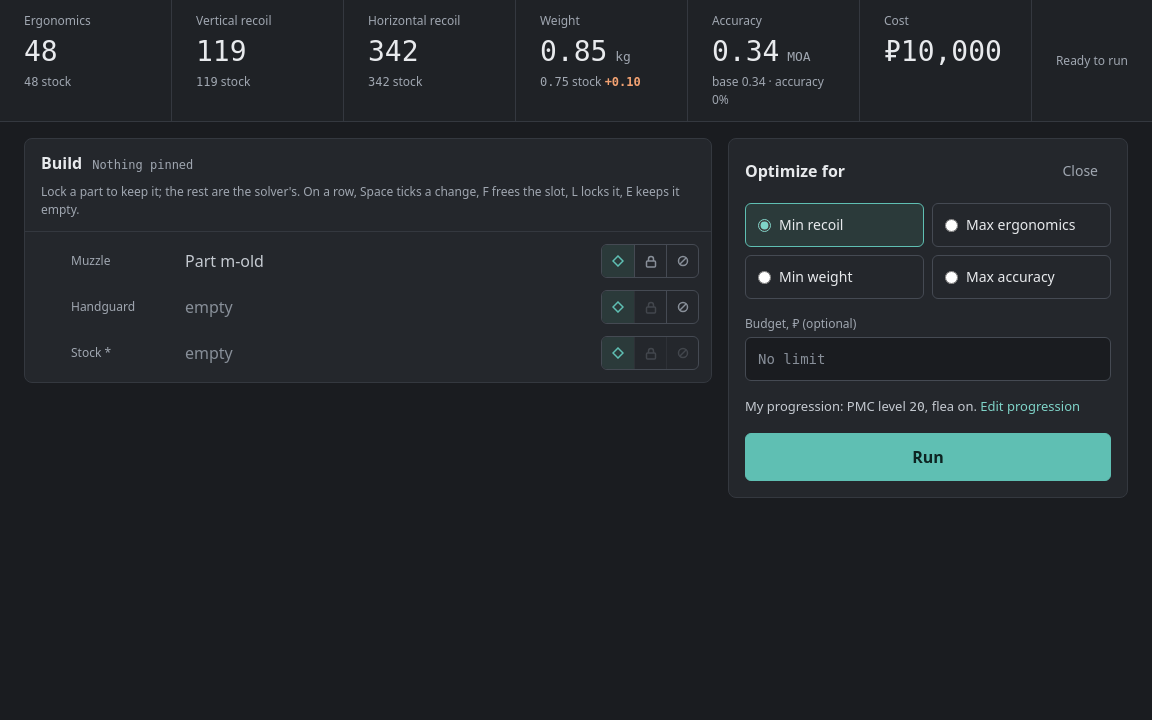
OptimizeWorkbench › pins › sends the pins, and shows which the result kept
This screenshot has width=1152, height=720.
Expected: the element "Pins" is not shown
Click the button named "Lock" in the row of "Part m-old". click: (650, 261)
box: [634,245,666,277]
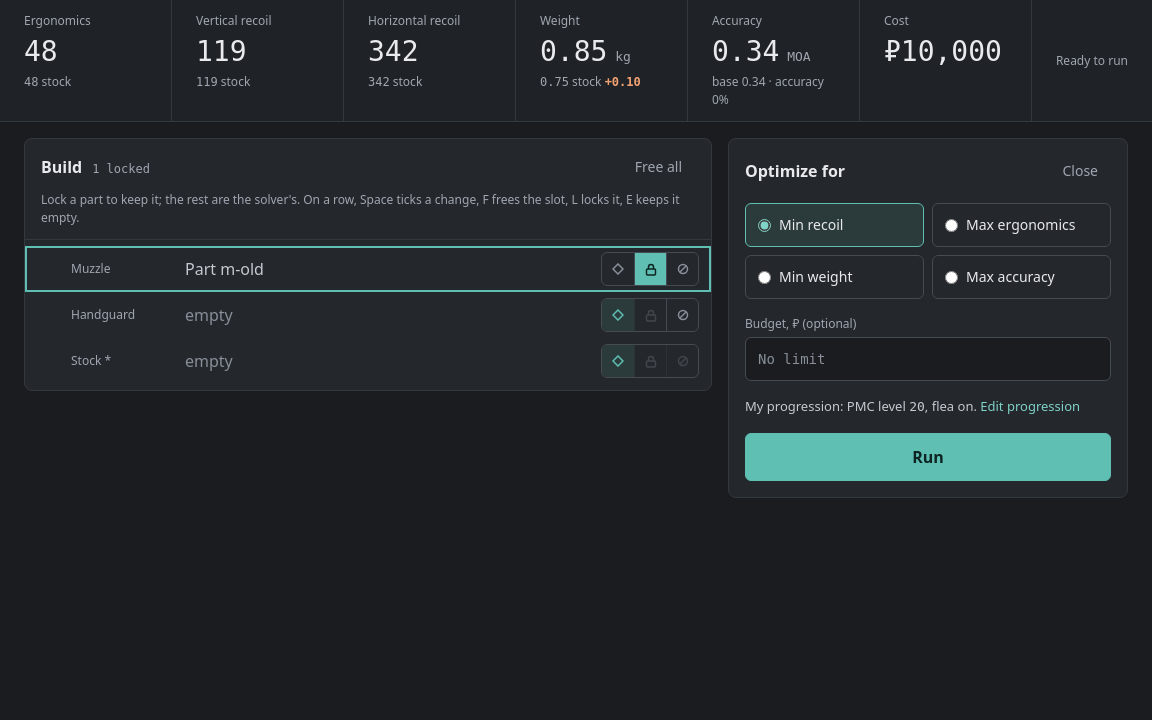
Click the button "Run". click: (928, 456)
box: [745,432,1111,480]
(page scrolled)
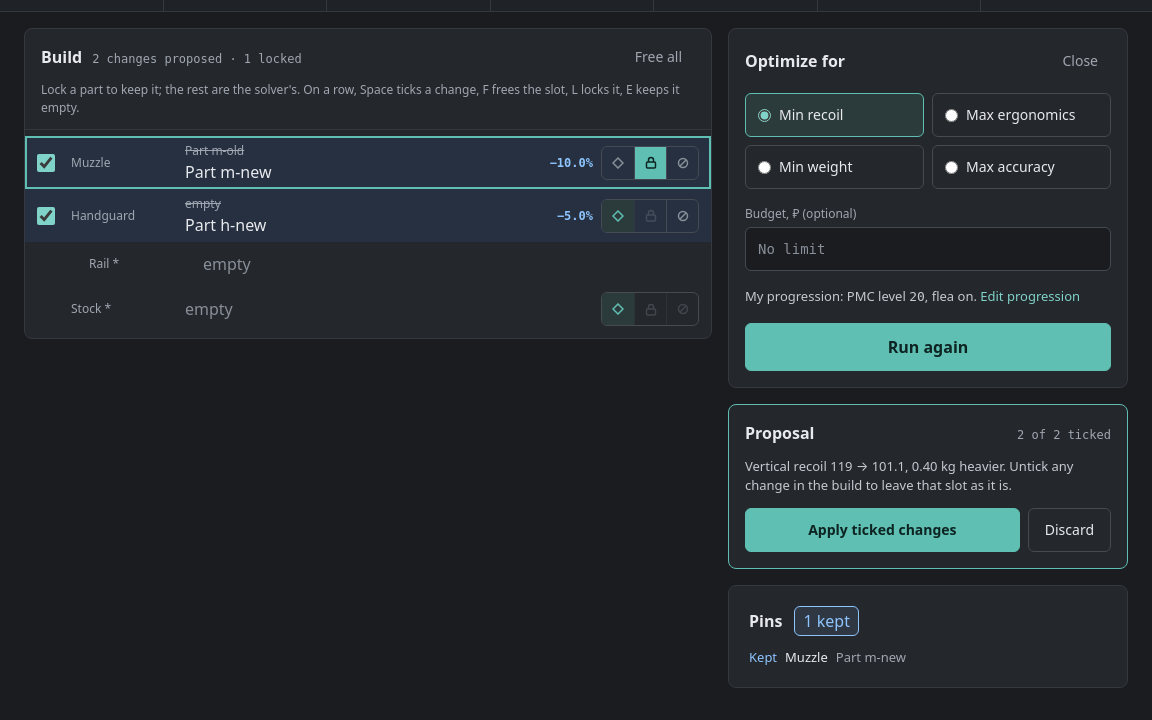
Expected: the element "Pins" shows "1 kept", [728,584,1128,688]
